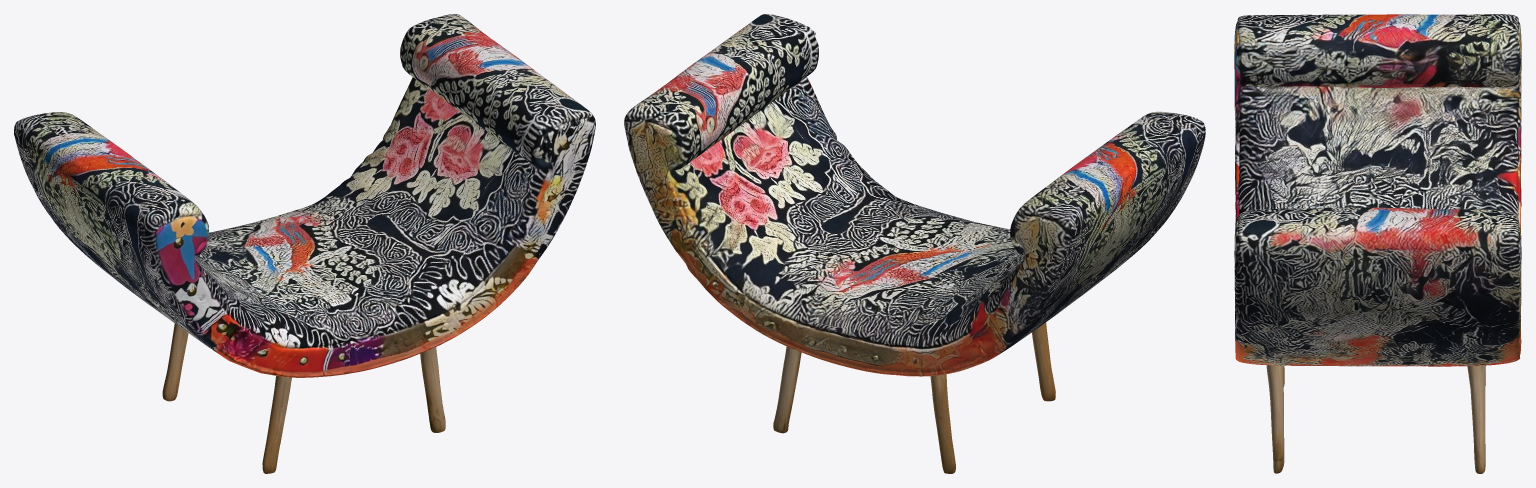
3 views of the same model, side by side, from view 1: azimuth 30°, elevation 25°; view 2: azimuth 150°, elevation 25°; view 3: azimuth 270°, elevation 25° (orthographic). The views are drawn at different scales.
Parts seen in each view (by area): view 1: model; view 2: model; view 3: model.
Part boxes in pixels (x1,y1,x2,y2): model: (14,14,595,473); model: (624,14,1205,473); model: (1234,14,1521,473).
Size of the model in its own units: 1.27 by 0.82 by 0.6863.
Materials: 1 (1 with a texture image).
